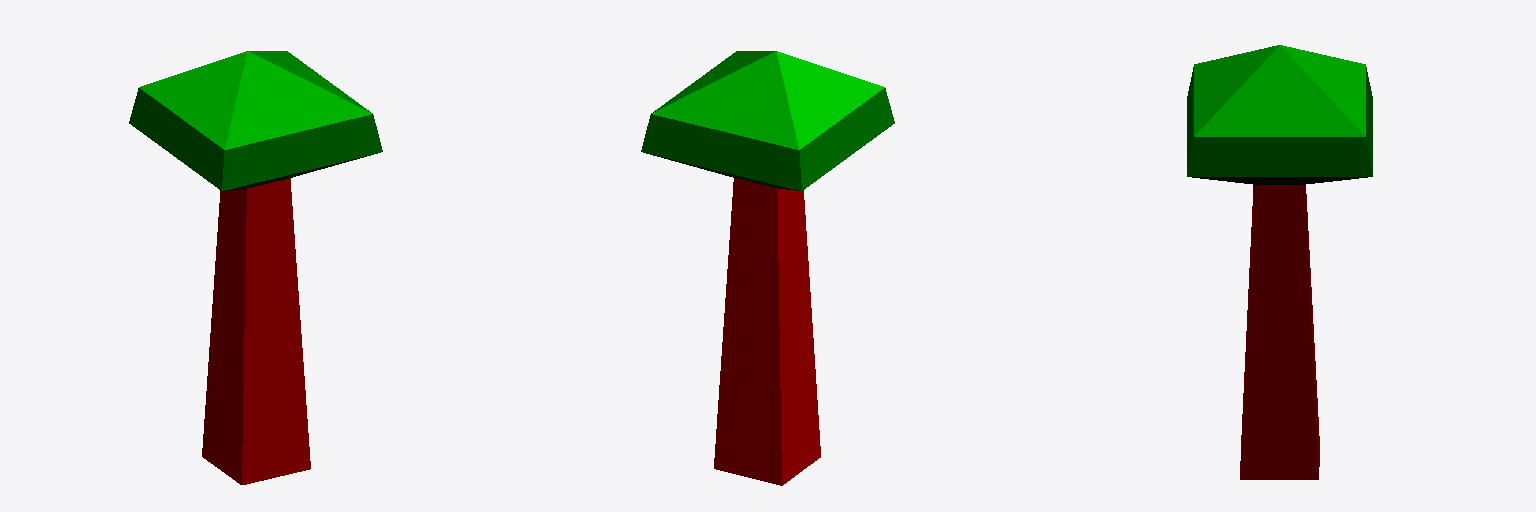
Rendered from arbutus_tree.obj.
3 views of the same model, side by side, from view 1: azimuth 30°, elevation 25°; view 2: azimuth 150°, elevation 25°; view 3: azimuth 270°, elevation 25° (orthographic).
Parts seen in each view (by area): view 1: Cube.001; view 2: Cube.001; view 3: Cube.001.
Boxes of the visible parts, x1=… form: Cube.001: x1=129, y1=51, x2=382, y2=484; Cube.001: x1=641, y1=51, x2=894, y2=485; Cube.001: x1=1187, y1=45, x2=1372, y2=479.
Size of the model in its own units: 22.8 by 56 by 22.8.